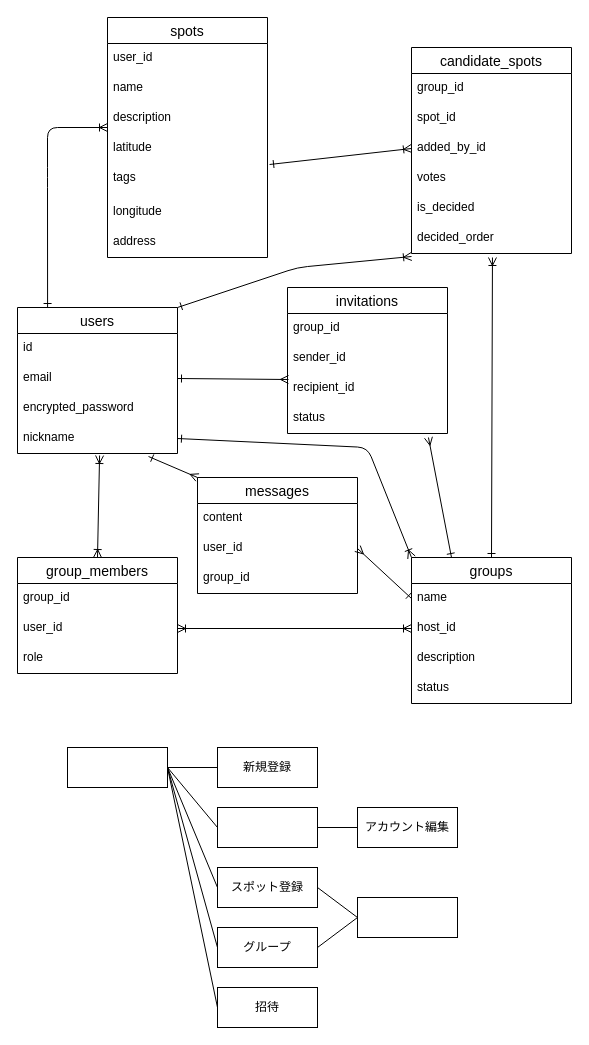
The diagram is 589 pixels wide and 1045 high, and some of its shapes have lost their labels. The centre of each missing label's shape, as x and y in pixels:
"トップページ" goes at (117,767).
"ランダム" goes at (407,917).
"ログイン" goes at (267,827).
